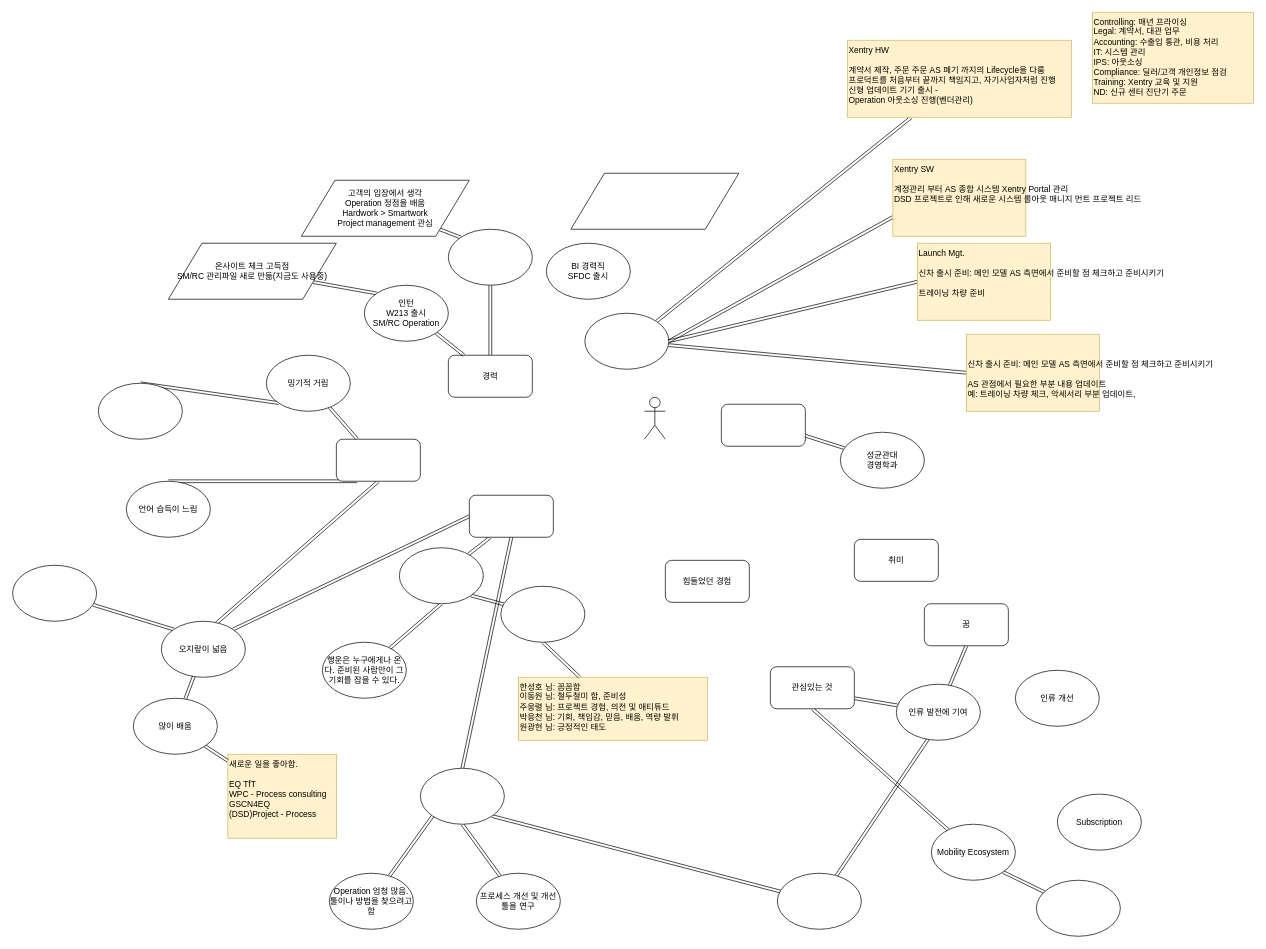
The diagram is 1266 pixels wide and 949 high, and some of its shapes have lost their labels. Here are the shapes that lost their labels. From the top down, the box of each, then its label:
(570, 173, 739, 229): CRM 시스템 / IT 롤아웃 프로젝트 경험 챌린지한
(448, 229, 532, 285): CS 인턴 CS Operations
(584, 313, 669, 369): Serv.Ops Xentry 담당
(98, 383, 182, 439): 마감을 못함
(644, 397, 665, 439): Don
(721, 404, 805, 446): 학력
(336, 439, 420, 481): 단점
(469, 495, 553, 537): 장점
(12, 565, 97, 621): Too much involve 가 되어서 일이 많아짐
(399, 547, 483, 604): 운이 좋음
(500, 586, 585, 642): 사람 운
(420, 768, 504, 824): Smart Worker
(777, 873, 861, 929): IT
(1036, 880, 1120, 936): 1st - Last mile
